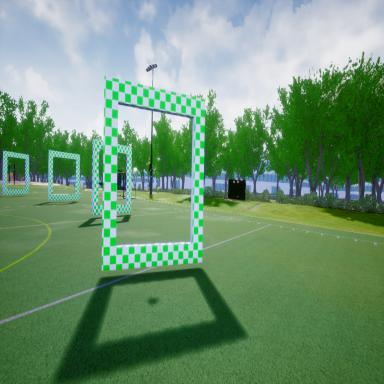gate: (101, 68, 207, 280), (90, 132, 132, 220), (45, 142, 81, 208), (2, 147, 31, 199)
